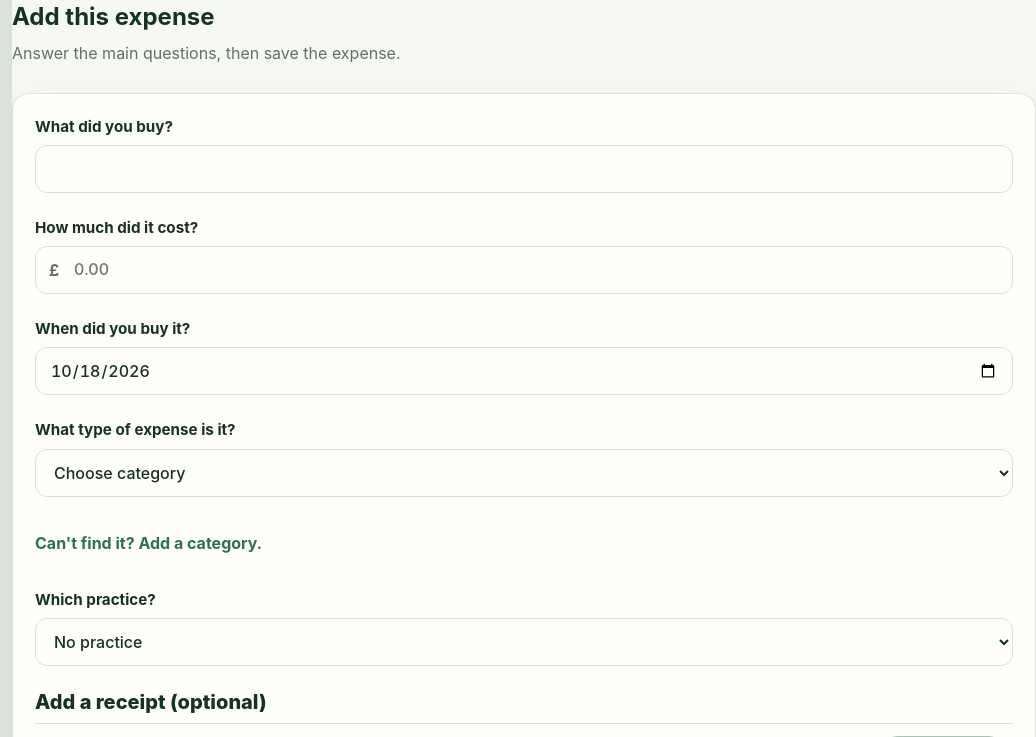
Test: uses plain validation copy and focuses the first problem
Type "12.50" into the field labelled "How much did it cost?" at (524, 270), box [35,246,1013,294]
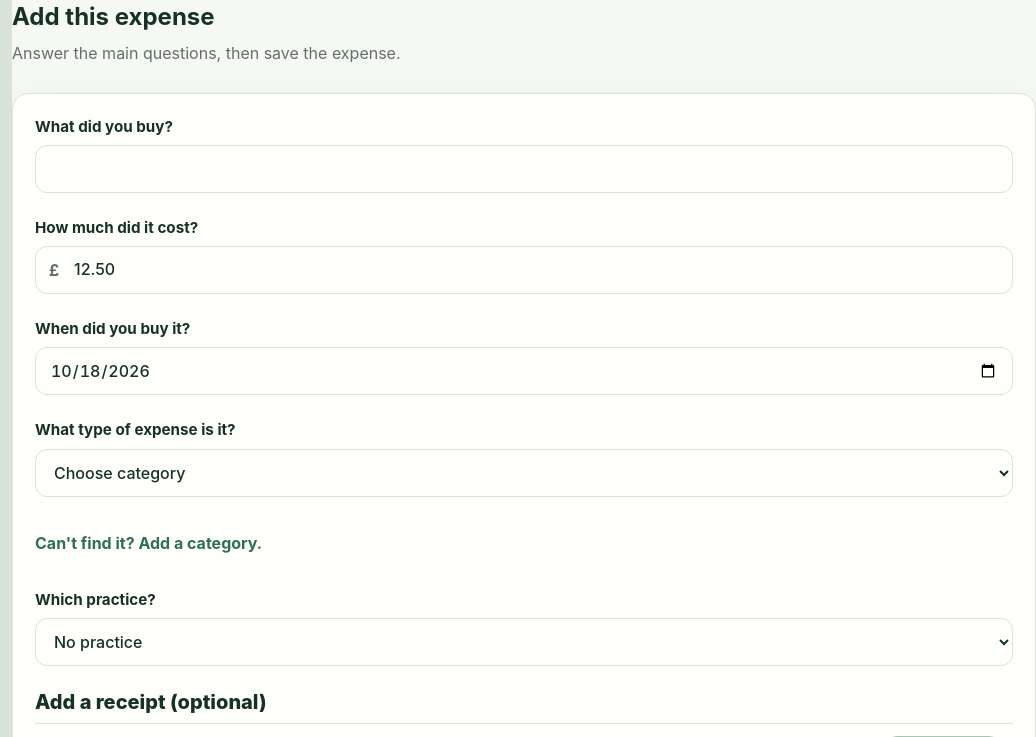
Select "Home office" in the dropdown labelled "What type of expense is it?" at (524, 473), box [35,449,1013,497]
(page scrolled)
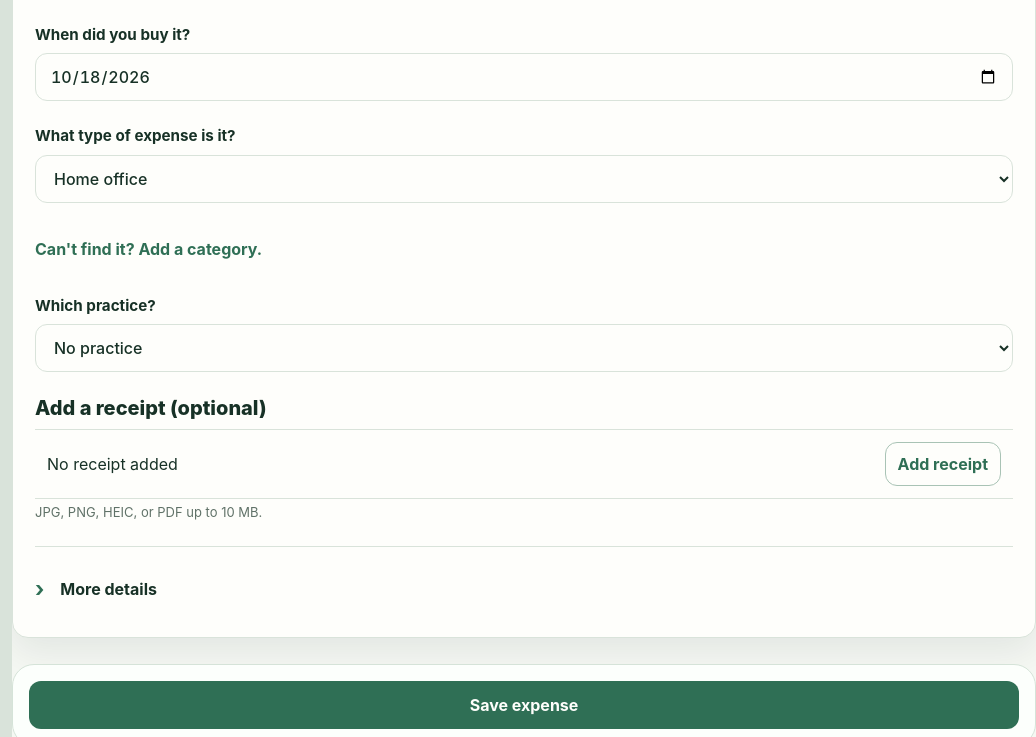
Click the button "Save expense" at (524, 705), box [29,681,1019,729]
(page scrolled)
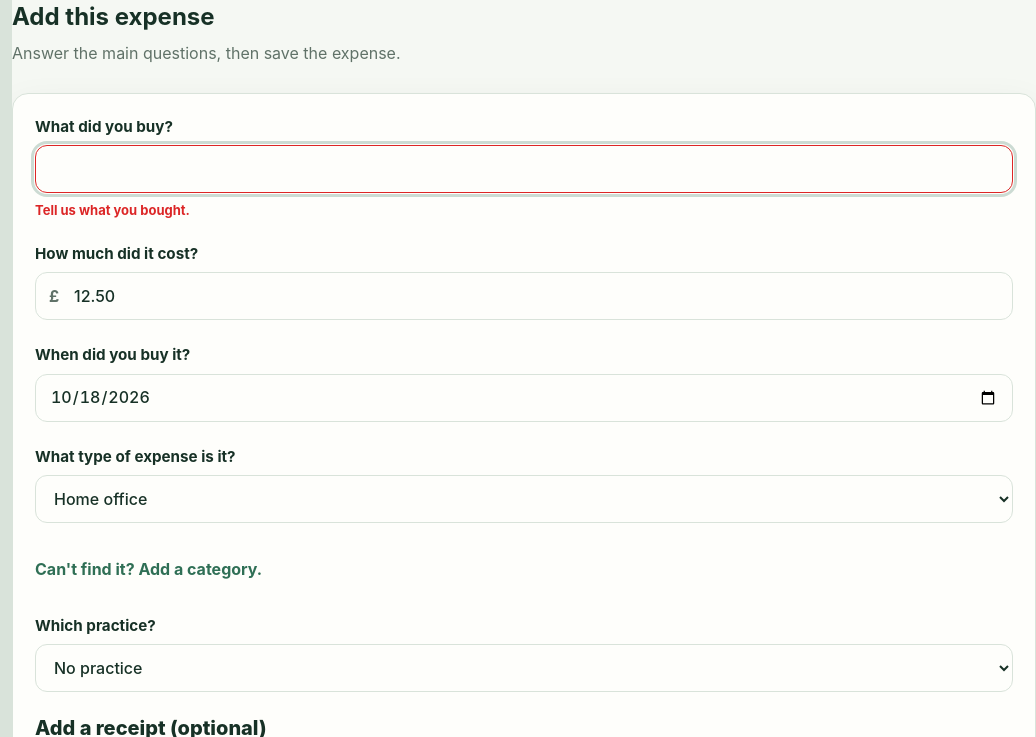
Now the message reads "Tell us what you bought.", box [35,202,190,218]
